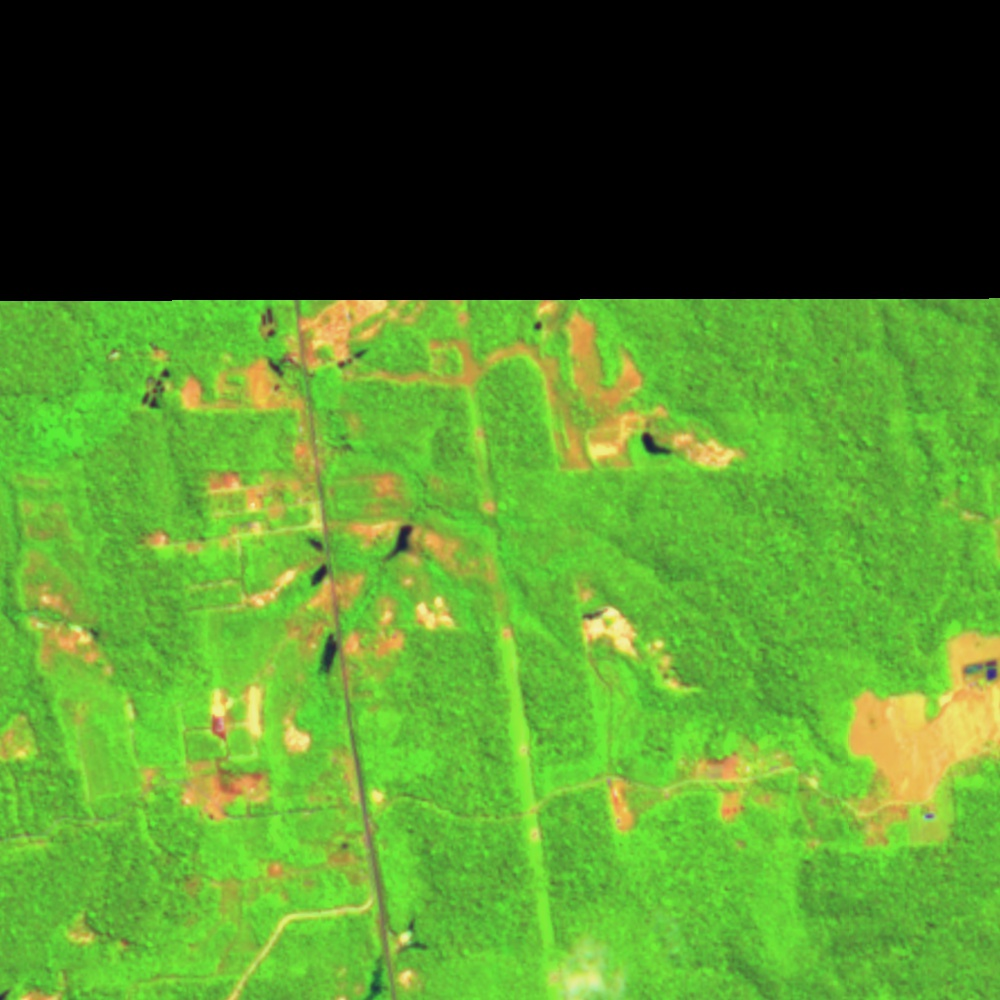legal: (137, 451, 484, 685), (137, 281, 418, 452), (520, 299, 752, 474), (211, 729, 416, 927), (841, 626, 1000, 852), (142, 683, 304, 828), (596, 734, 803, 839), (16, 558, 139, 724), (567, 585, 702, 698), (352, 918, 434, 1000), (64, 908, 135, 955)
